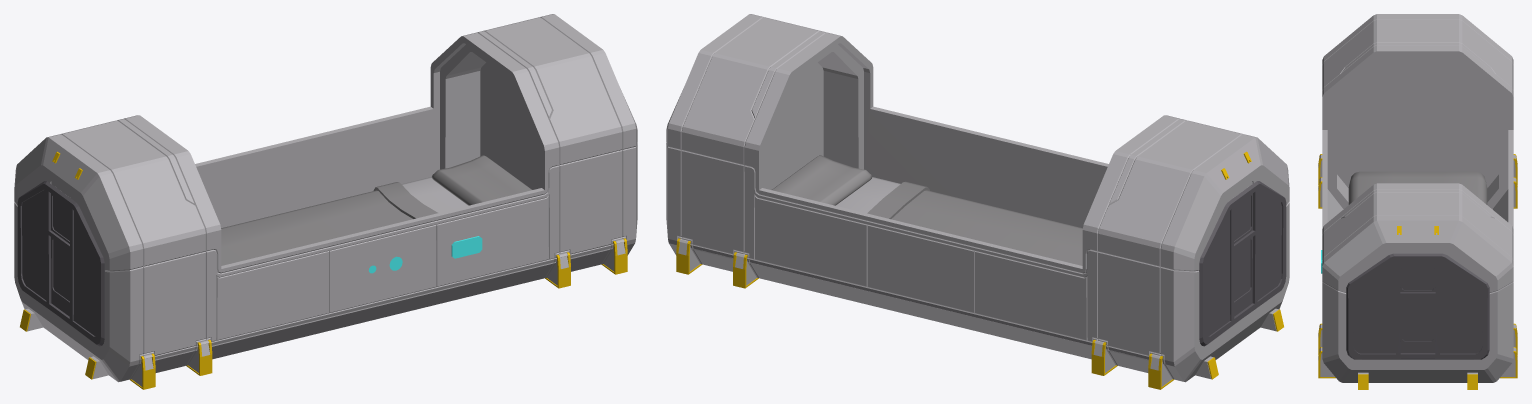
Rendered from SM_Props_Laboratory_01.fbx.
3 renders of one model, left to right at view 1: azimuth 30°, elevation 25°; view 2: azimuth 150°, elevation 25°; view 3: azimuth 270°, elevation 25°, orthographic. The views are drawn at different scales.
Visible parts, largest first — view 1: SM_Props_Laboratory_01; view 2: SM_Props_Laboratory_01; view 3: SM_Props_Laboratory_01.
Boxes of the visible parts, x1,y1,x2,y2 form: SM_Props_Laboratory_01: (14,14,637,389); SM_Props_Laboratory_01: (666,14,1289,389); SM_Props_Laboratory_01: (1318,14,1517,389).
Bounding box in the file's own units: 3.06 × 1.05 × 1.17.
